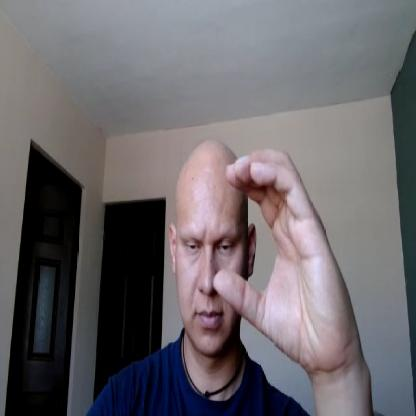C: (213, 147, 356, 369)
